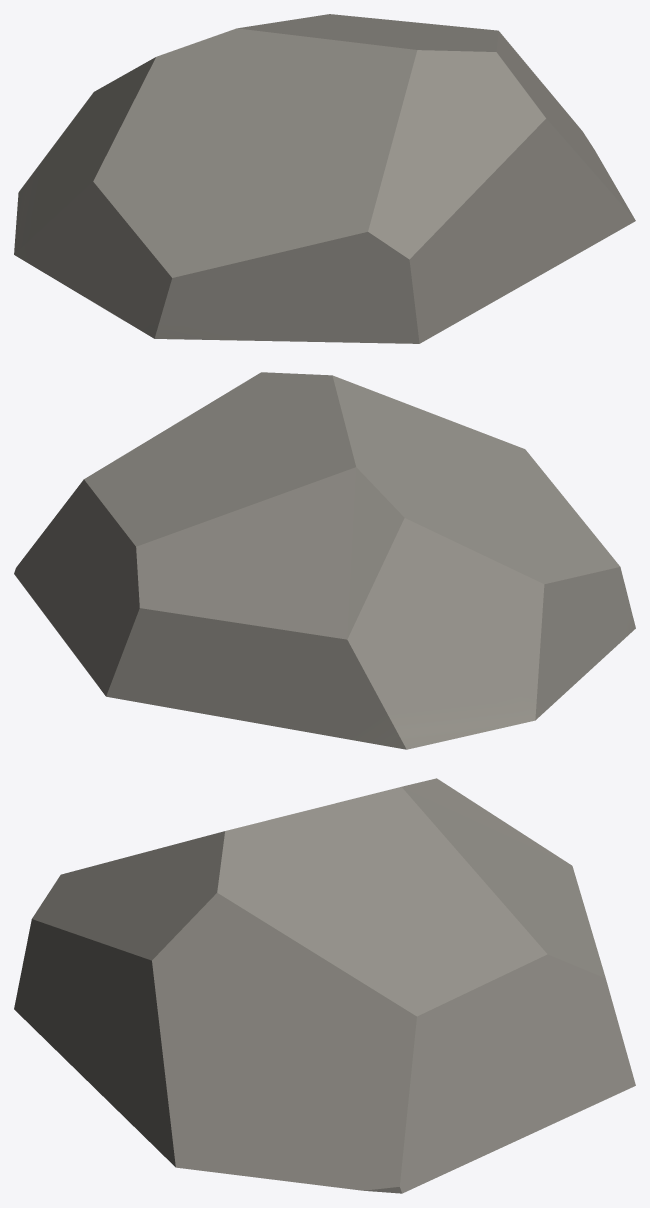
File: Rock_Round_s_03.fbx
3 views of the same model, one above another, from view 1: azimuth 30°, elevation 25°; view 2: azimuth 150°, elevation 25°; view 3: azimuth 270°, elevation 25° (orthographic). The views are drawn at different scales.
Visible parts, largest first — view 1: Rock_Round_s_03; view 2: Rock_Round_s_03; view 3: Rock_Round_s_03.
Part boxes in pixels (x1,y1,x2,y2): Rock_Round_s_03: [14, 14, 635, 343]; Rock_Round_s_03: [14, 372, 635, 749]; Rock_Round_s_03: [14, 778, 635, 1193].
Size of the model in its own units: 49.79 by 17.64 by 43.44.
